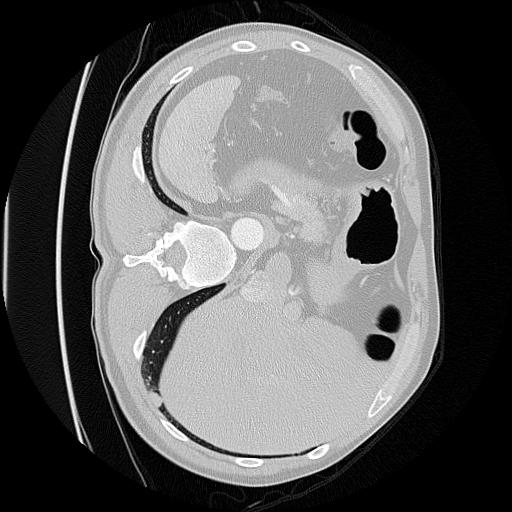nodule: (148, 393, 167, 412)
